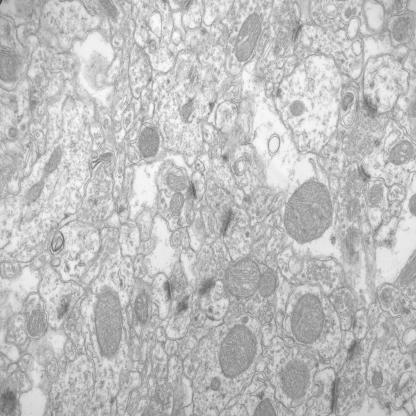mitochondria: (283, 176, 336, 244), (218, 322, 258, 380), (94, 284, 124, 360), (290, 290, 325, 343), (232, 10, 264, 63), (224, 255, 260, 299), (279, 358, 310, 402), (385, 138, 415, 168), (257, 268, 280, 300), (25, 307, 48, 339), (138, 126, 160, 159), (132, 289, 152, 324), (0, 50, 20, 84), (167, 192, 186, 220), (166, 171, 188, 192), (366, 182, 384, 206), (179, 100, 194, 122), (289, 99, 305, 118), (370, 369, 384, 389), (380, 286, 393, 306), (210, 376, 221, 392)
